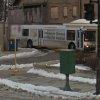Bus: (11, 19, 88, 53)
